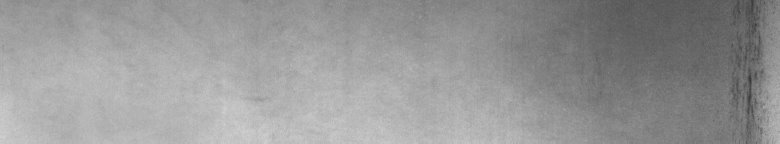ka: (727, 4, 768, 136)
